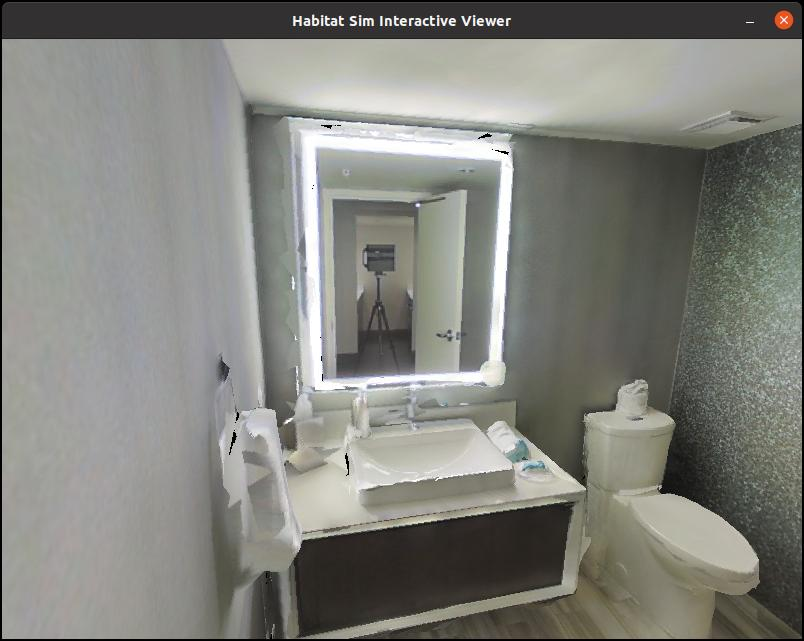sink: (323, 374, 525, 514)
toilet: (574, 370, 768, 641)
